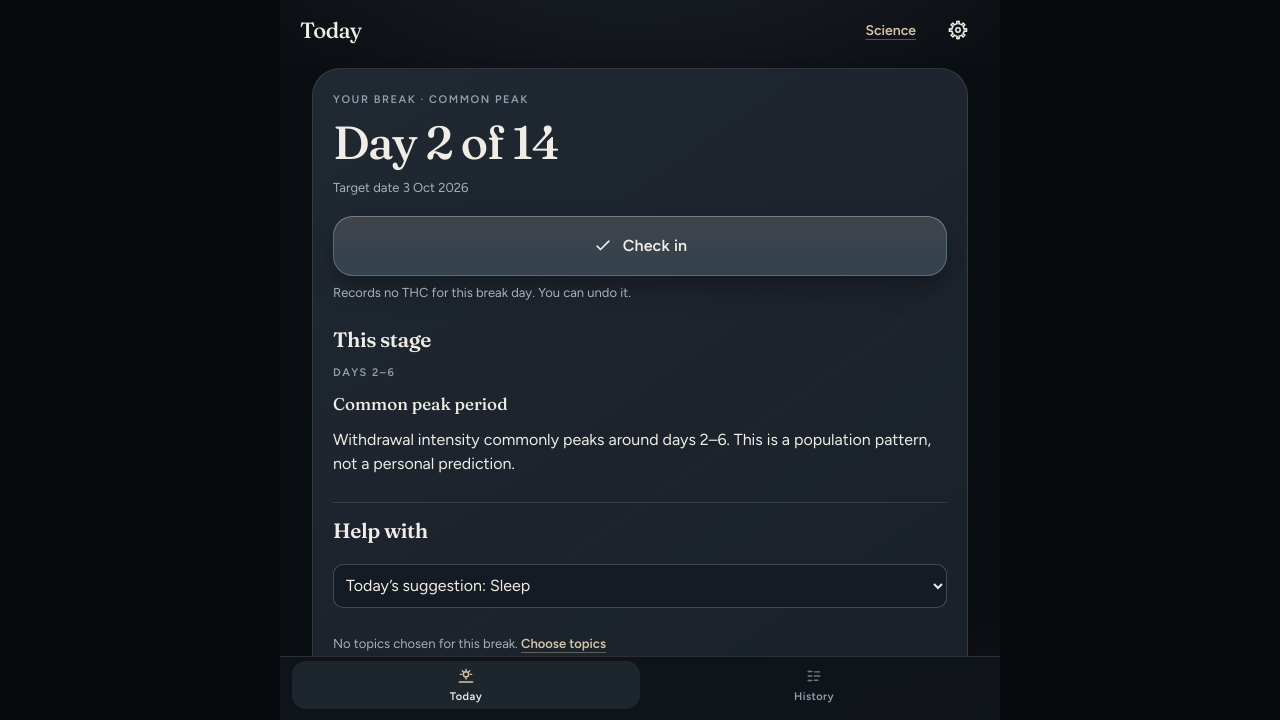
Test case: support topics › keeps the day’s own practice when no topics were ever chosen
Check: the element with test id "advice-topics" shows "No topics chosen for this break.", box [333,636,518,651]
Click the button with test id "support-choose": [563, 644] box [521,628,606,660]
(page scrolled)
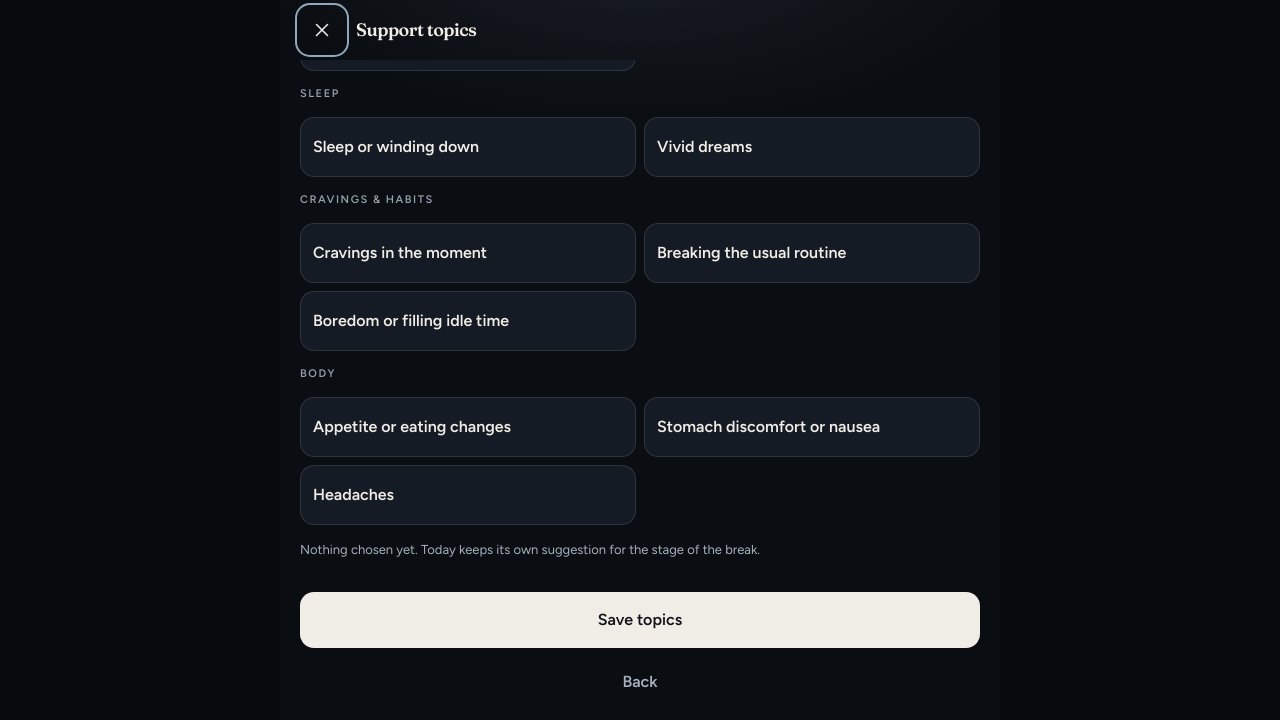
Check: the dialog with test id "support-areas-sheet" is shown, box [280,0,1000,719]
Check: the text with test id "support-empty" is shown, box [300,542,760,557]
